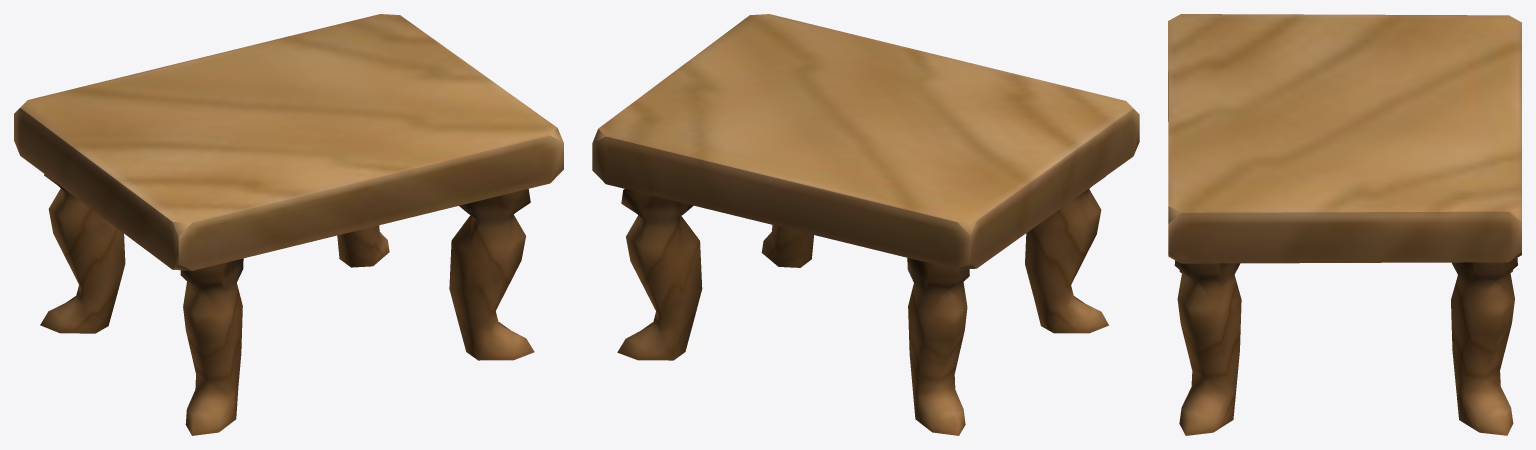
The model's file is coffeetableSq.glb.
3 views of the same model, side by side, from view 1: azimuth 30°, elevation 25°; view 2: azimuth 150°, elevation 25°; view 3: azimuth 270°, elevation 25° (orthographic). The views are drawn at different scales.
Visible parts, largest first — view 1: top1, leggroup4, leggroup1, leggroup2, leggroup3; view 2: top1, leggroup3, leggroup2, leggroup1, leggroup4; view 3: top1, leggroup3, leggroup4.
Boxes of the visible parts, x1=… form: top1: x1=14, y1=14, x2=563, y2=270; leggroup4: x1=449, y1=189, x2=534, y2=360; leggroup1: x1=180, y1=258, x2=243, y2=435; leggroup2: x1=40, y1=174, x2=125, y2=333; leggroup3: x1=337, y1=225, x2=389, y2=267; top1: x1=592, y1=14, x2=1139, y2=269; leggroup3: x1=617, y1=189, x2=702, y2=360; leggroup2: x1=907, y1=258, x2=969, y2=435; leggroup1: x1=1025, y1=176, x2=1108, y2=333; leggroup4: x1=761, y1=225, x2=813, y2=267; top1: x1=1168, y1=14, x2=1521, y2=263; leggroup3: x1=1451, y1=257, x2=1517, y2=435; leggroup4: x1=1174, y1=260, x2=1241, y2=435.
Bounding box in the file's own units: 4.12 × 2.26 × 3.09.
Materials: 2 (2 with a texture image).
